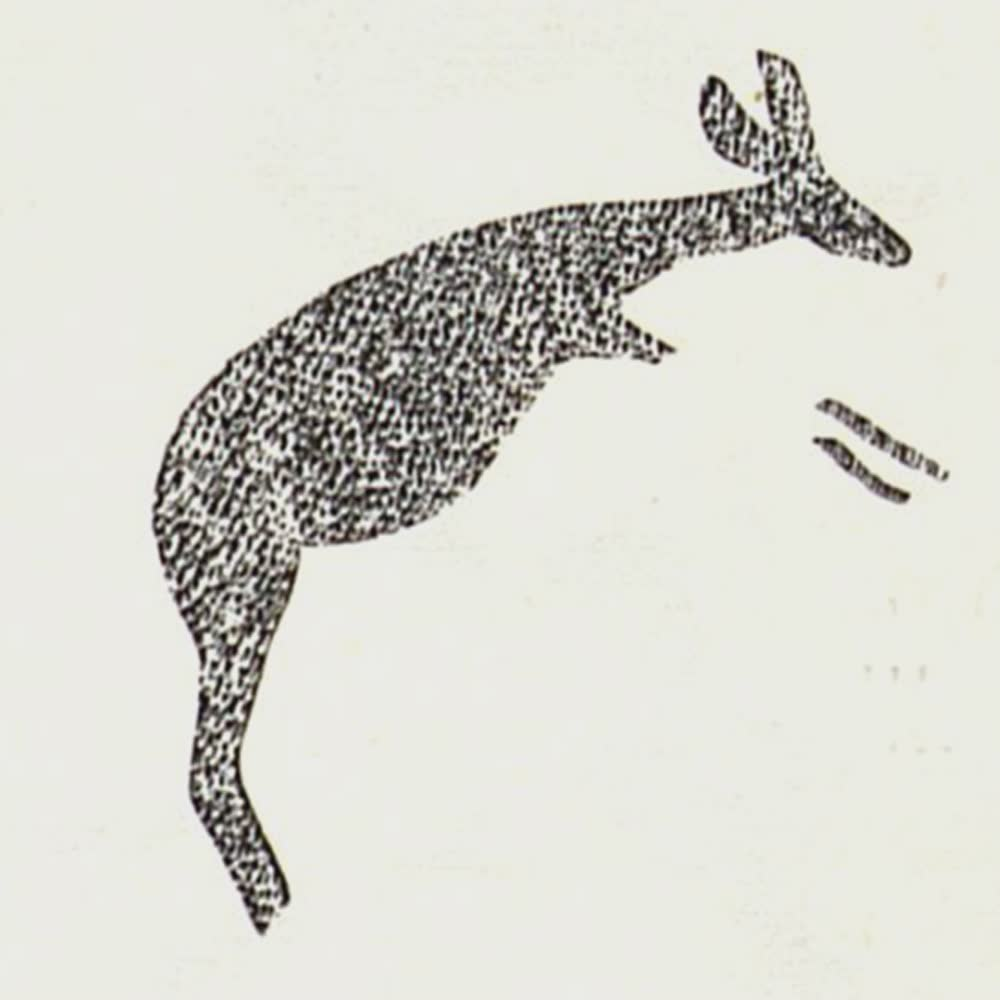animal: (137, 43, 955, 952)
